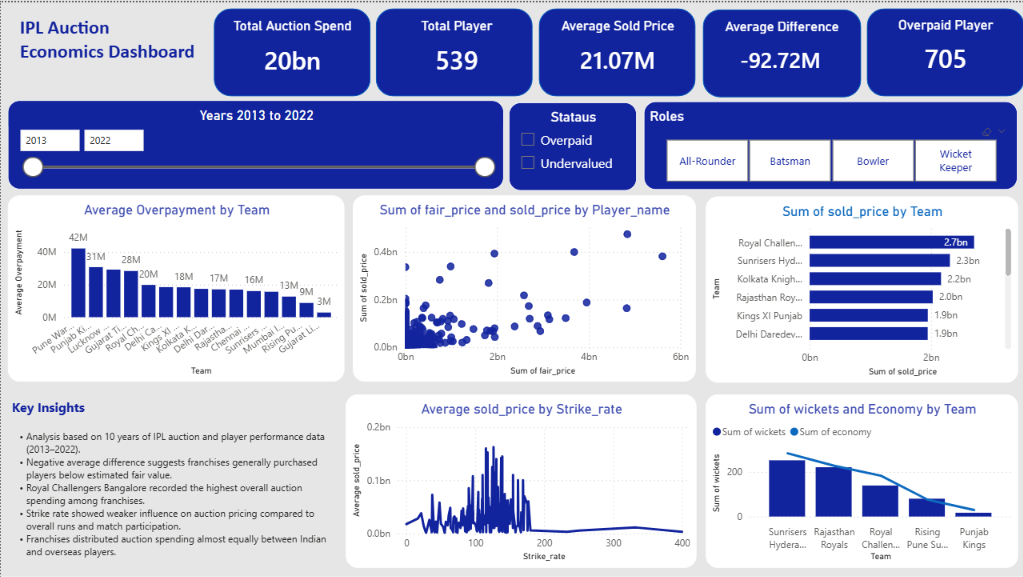

Layout of this report page (visuals, bound fields, positions):
{"tool":"powerbi","page":{"name":"Page 1","canvas":[1280,720],"ordinal":0},"visuals":[{"type":"shape","box":[878,9,198,110],"z":0},{"type":"shape","box":[1083,7,197,110],"z":1000},{"type":"cardVisual","title":"Total Sold Price","fields":{"Data":["final_auction_analysis.Average sold_price"]},"box":[487,18,160,88],"z":2000},{"type":"scatterChart","title":"Sum of fair_price and sold_price by Player_name","fields":{"X":["Sum(final_auction_analysis.fair_price)"],"Y":["Sum(final_auction_analysis.sold_price)"],"Category":["final_auction_analysis.player_name"]},"box":[440,241.4,428.6,232.9],"z":3000},{"type":"lineChart","title":"Average sold_price by Strike_rate","fields":{"Category":["final_auction_analysis.strike_rate"],"Y":["final_auction_analysis.Average sold_price"]},"box":[431.7,490,438.3,216.7],"z":4000},{"type":"columnChart","fields":{"Category":["final_auction_analysis.team"],"Y":["final_auction_analysis.Average Overpayment"]},"box":[9,241,421,233],"z":5000},{"type":"barChart","title":"Sum of sold_price by Team","fields":{"Category":["final_auction_analysis.team"],"Y":["Sum(final_auction_analysis.sold_price)"]},"box":[881.4,242.9,390,232.9],"z":6000},{"type":"lineClusteredColumnComboChart","title":"Sum of wickets and Economy by Team","fields":{"Y":["Sum(final_auction_analysis.wickets)"],"Y2":["Sum(final_auction_analysis.economy)"],"Category":["final_auction_analysis.team"]},"box":[881.7,490,390,216.7],"z":7000},{"type":"slicer","title":"Stataus","fields":{"Values":["final_auction_analysis.status"]},"box":[635,125,160,110],"z":8000},{"type":"slicer","title":"Roles","fields":{"Values":["final_auction_analysis.Role"]},"box":[803.8,123.8,467.5,110],"z":9000},{"type":"slicer","title":"Years 2013 to 2022","fields":{"Values":["final_auction_analysis.year"]},"box":[8.8,122.5,620,111.2],"z":10000},{"type":"shape","box":[266,7,196,110],"z":11000},{"type":"shape","box":[469,8,196,110],"z":12000},{"type":"shape","box":[673,8,196,110],"z":13000},{"type":"cardVisual","title":"Total Player","fields":{"Data":["final_auction_analysis.Total Player"]},"box":[487,19,165,88],"z":14000},{"type":"cardVisual","title":"Total Auction Spend","fields":{"Data":["final_auction_analysis.Total Auction Spend"]},"box":[277,19,174,87],"z":15000},{"type":"cardVisual","title":"Average Difference","fields":{"Data":["final_auction_analysis.Average difference"]},"box":[895,20,163,87],"z":16000},{"type":"cardVisual","title":"Average Sold Price","fields":{"Data":["final_auction_analysis.Average sold_price"]},"box":[689,19,165,88],"z":17000},{"type":"cardVisual","title":"Overpaid Player","fields":{"Data":["final_auction_analysis.Overpaid players"]},"box":[1099,18,165,88],"z":18000},{"type":"textbox","box":[8.8,490,408.8,217.5],"z":19000},{"type":"textbox","box":[18.8,11.2,230,96.2],"z":19001}]}

Visuals, with their boxes in screenshot pixels (x1, y1, x2, y2), scaled from the page's 1280x720 canvas onto the 1023x577 screenshot:
shape: [x1=702, y1=7, x2=860, y2=95]
shape: [x1=866, y1=6, x2=1022, y2=94]
"Total Sold Price" cardVisual: [x1=389, y1=14, x2=517, y2=85]
"Sum of fair_price and sold_price by Player_name" scatterChart: [x1=352, y1=193, x2=694, y2=380]
"Average sold_price by Strike_rate" lineChart: [x1=345, y1=393, x2=695, y2=566]
columnChart - final_auction_analysis.team x final_auction_analysis.Average Overpayment: [x1=7, y1=193, x2=344, y2=380]
"Sum of sold_price by Team" barChart: [x1=704, y1=195, x2=1016, y2=381]
"Sum of wickets and Economy by Team" lineClusteredColumnComboChart: [x1=705, y1=393, x2=1016, y2=566]
"Stataus" slicer: [x1=508, y1=100, x2=635, y2=188]
"Roles" slicer: [x1=642, y1=99, x2=1016, y2=187]
"Years 2013 to 2022" slicer: [x1=7, y1=98, x2=503, y2=187]
shape: [x1=213, y1=6, x2=369, y2=94]
shape: [x1=375, y1=6, x2=531, y2=95]
shape: [x1=538, y1=6, x2=695, y2=95]
"Total Player" cardVisual: [x1=389, y1=15, x2=521, y2=86]
"Total Auction Spend" cardVisual: [x1=221, y1=15, x2=360, y2=85]
"Average Difference" cardVisual: [x1=715, y1=16, x2=846, y2=86]
"Average Sold Price" cardVisual: [x1=551, y1=15, x2=683, y2=86]
"Overpaid Player" cardVisual: [x1=878, y1=14, x2=1010, y2=85]
textbox: [x1=7, y1=393, x2=334, y2=567]
textbox: [x1=15, y1=9, x2=199, y2=86]
